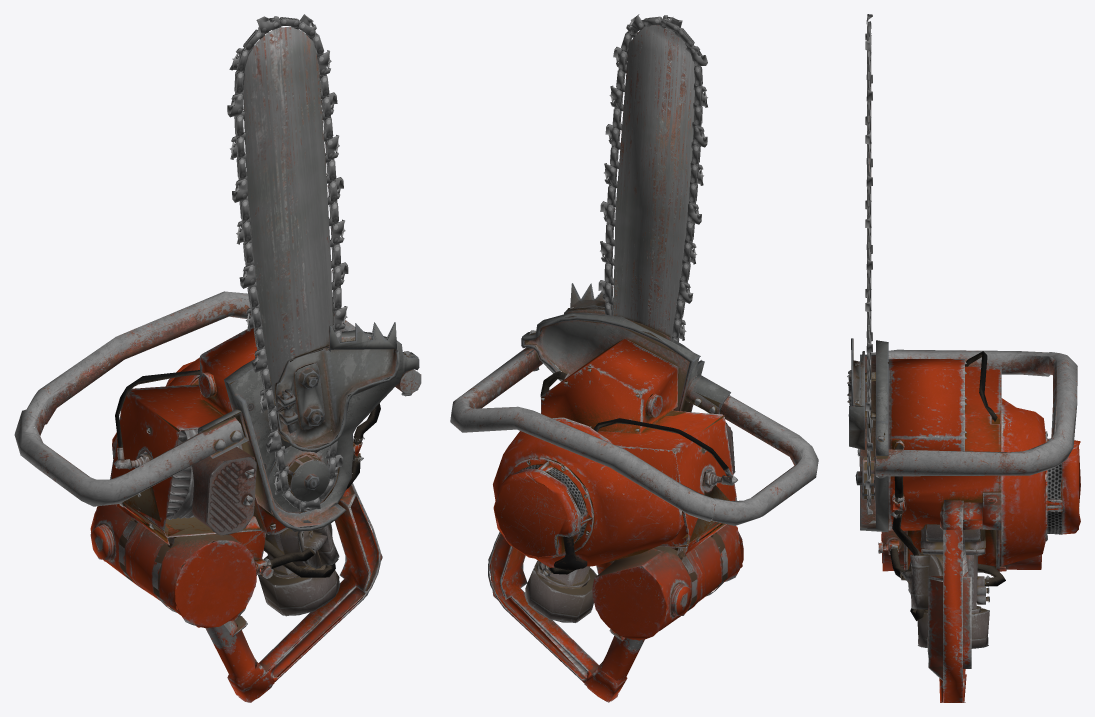
Rendered from w_motosierra_vintage.glb.
3 renders of one model, left to right at view 1: azimuth 30°, elevation 25°; view 2: azimuth 150°, elevation 25°; view 3: azimuth 270°, elevation 25°, orthographic. The views are drawn at different scales.
Visible parts, largest first — view 1: w_motosierra_vintage; view 2: w_motosierra_vintage; view 3: w_motosierra_vintage.
Boxes of the visible parts, <box> form: w_motosierra_vintage: <box>14,14,421,702</box>; w_motosierra_vintage: <box>450,14,818,702</box>; w_motosierra_vintage: <box>847,14,1080,702</box>.
Size of the model in its own units: 0.4127 by 0.8594 by 0.269.
Materials: 2 (2 with a texture image).
